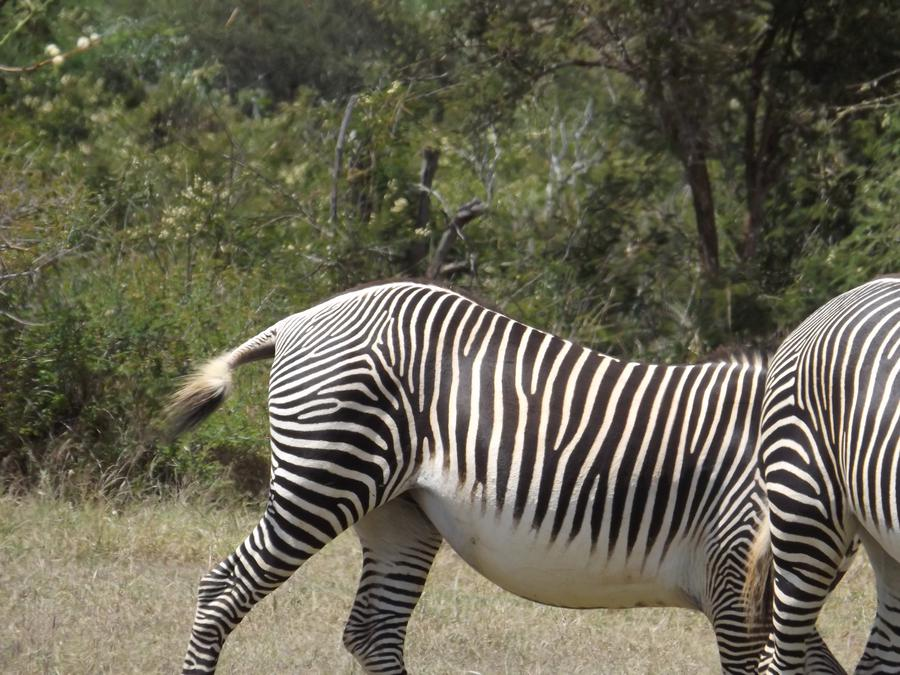zebra_grevys: (282, 241, 744, 599)
